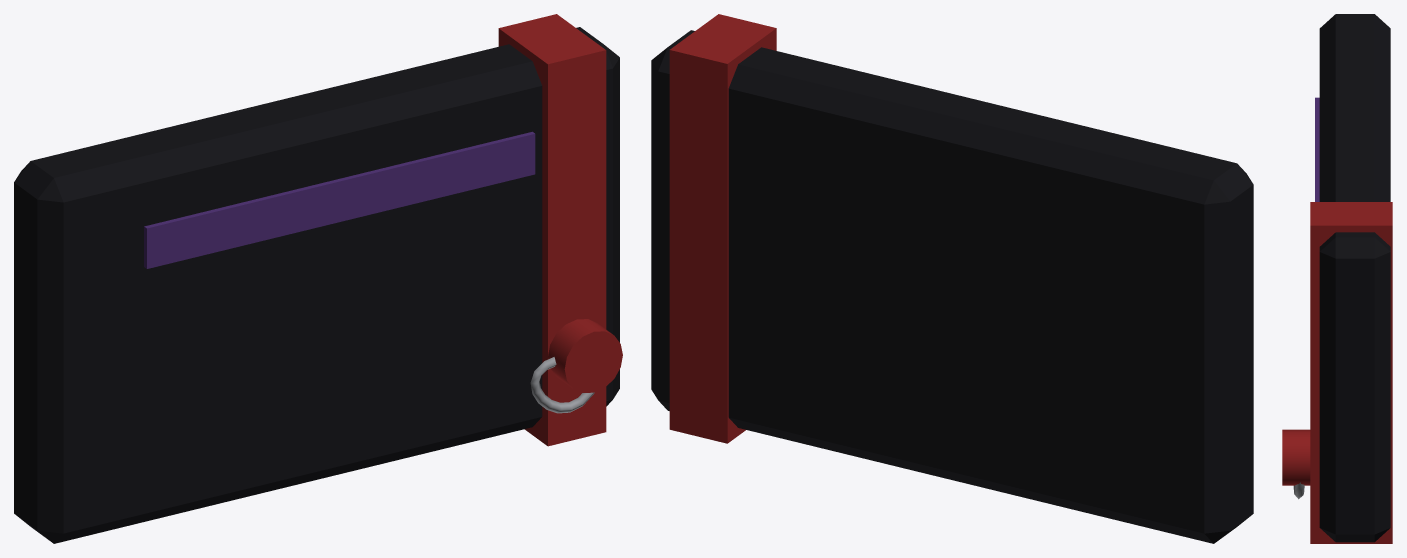
Rendered from t1_coder.obj.
The picture shows the model from 3 angles, left to right: view 1: azimuth 30°, elevation 25°; view 2: azimuth 150°, elevation 25°; view 3: azimuth 270°, elevation 25°; orthographic projection. The views are drawn at different scales.
Parts seen in each view (by area): view 1: t1_coder; view 2: t1_coder; view 3: t1_coder.
Boxes of the visible parts, x1,y1,x2,y2 form: t1_coder: [14, 14, 622, 543]; t1_coder: [651, 14, 1253, 543]; t1_coder: [1282, 14, 1392, 543].
Size of the model in its own units: 0.3 by 0.188 by 0.059.
